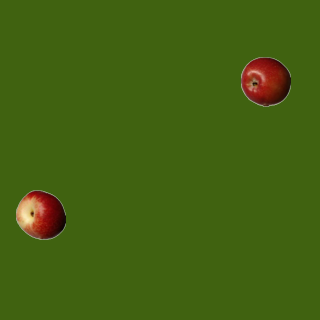Apple Braeburn: (240, 56, 290, 106)
Nectarine: (15, 189, 65, 239)
